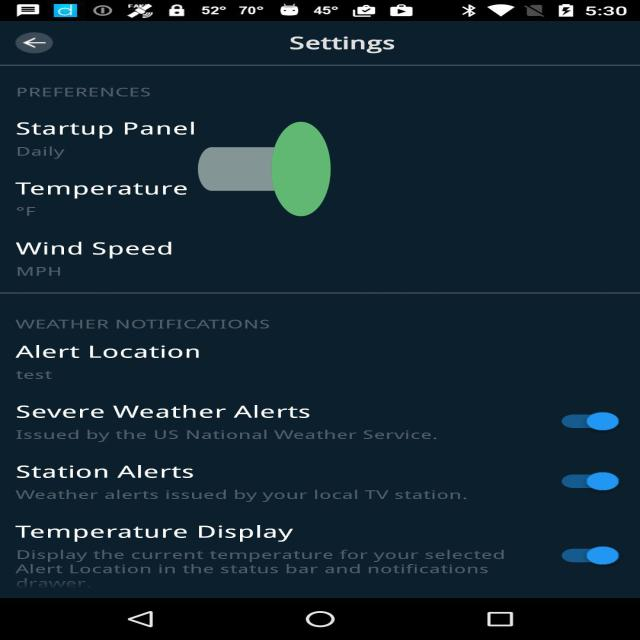social proof: (198, 64, 331, 274)
